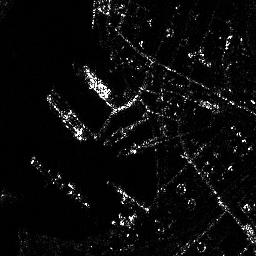ship: (45, 93, 86, 141), (82, 63, 113, 102)
